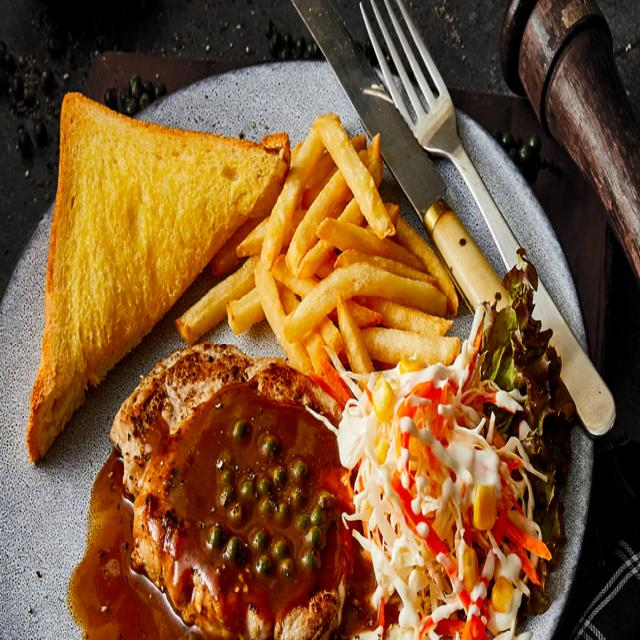Carbohydrate: (26, 84, 460, 444)
Protein: (109, 344, 356, 640)
Steak: (0, 54, 589, 640)
Vegetable: (338, 246, 567, 640)
